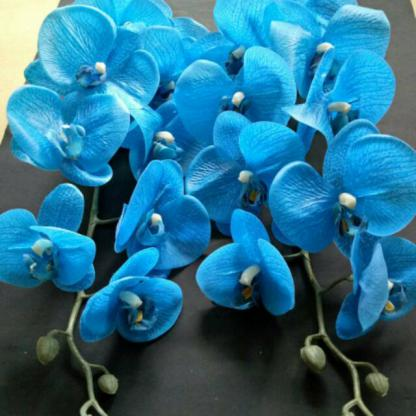ANGGREK: (28, 14, 403, 368)
